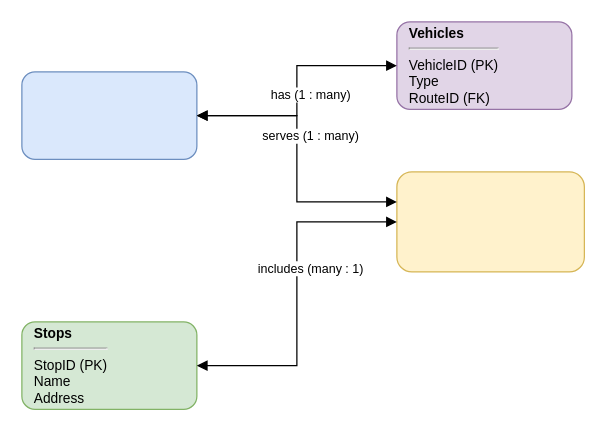
This 606x431 diagram has some shape labels left out. The centre of each missing label's shape, as x and y in pixels:
Routes RouteID (PK) Name VehicleType: point 109,115
RouteStops RouteID (FK, PK) StopID (FK, PK) Sequence: point 490,221
